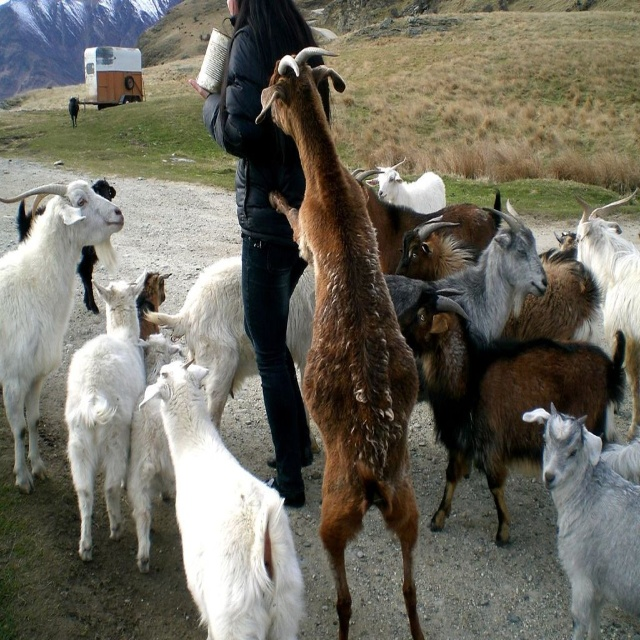Goat: (0, 46, 640, 640)
